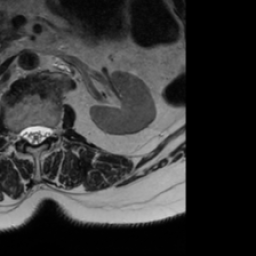CCS_normal: (31, 119, 40, 151)
LFS_normal: (50, 121, 58, 144)
LLS_normal: (41, 121, 49, 145)
RFS_normal: (14, 123, 22, 147)
RLS_normal: (22, 122, 31, 146)
